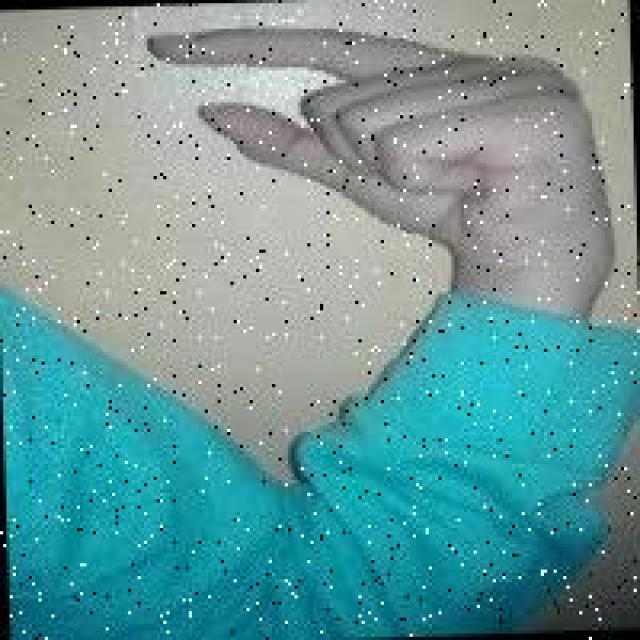G: (141, 7, 627, 292)
